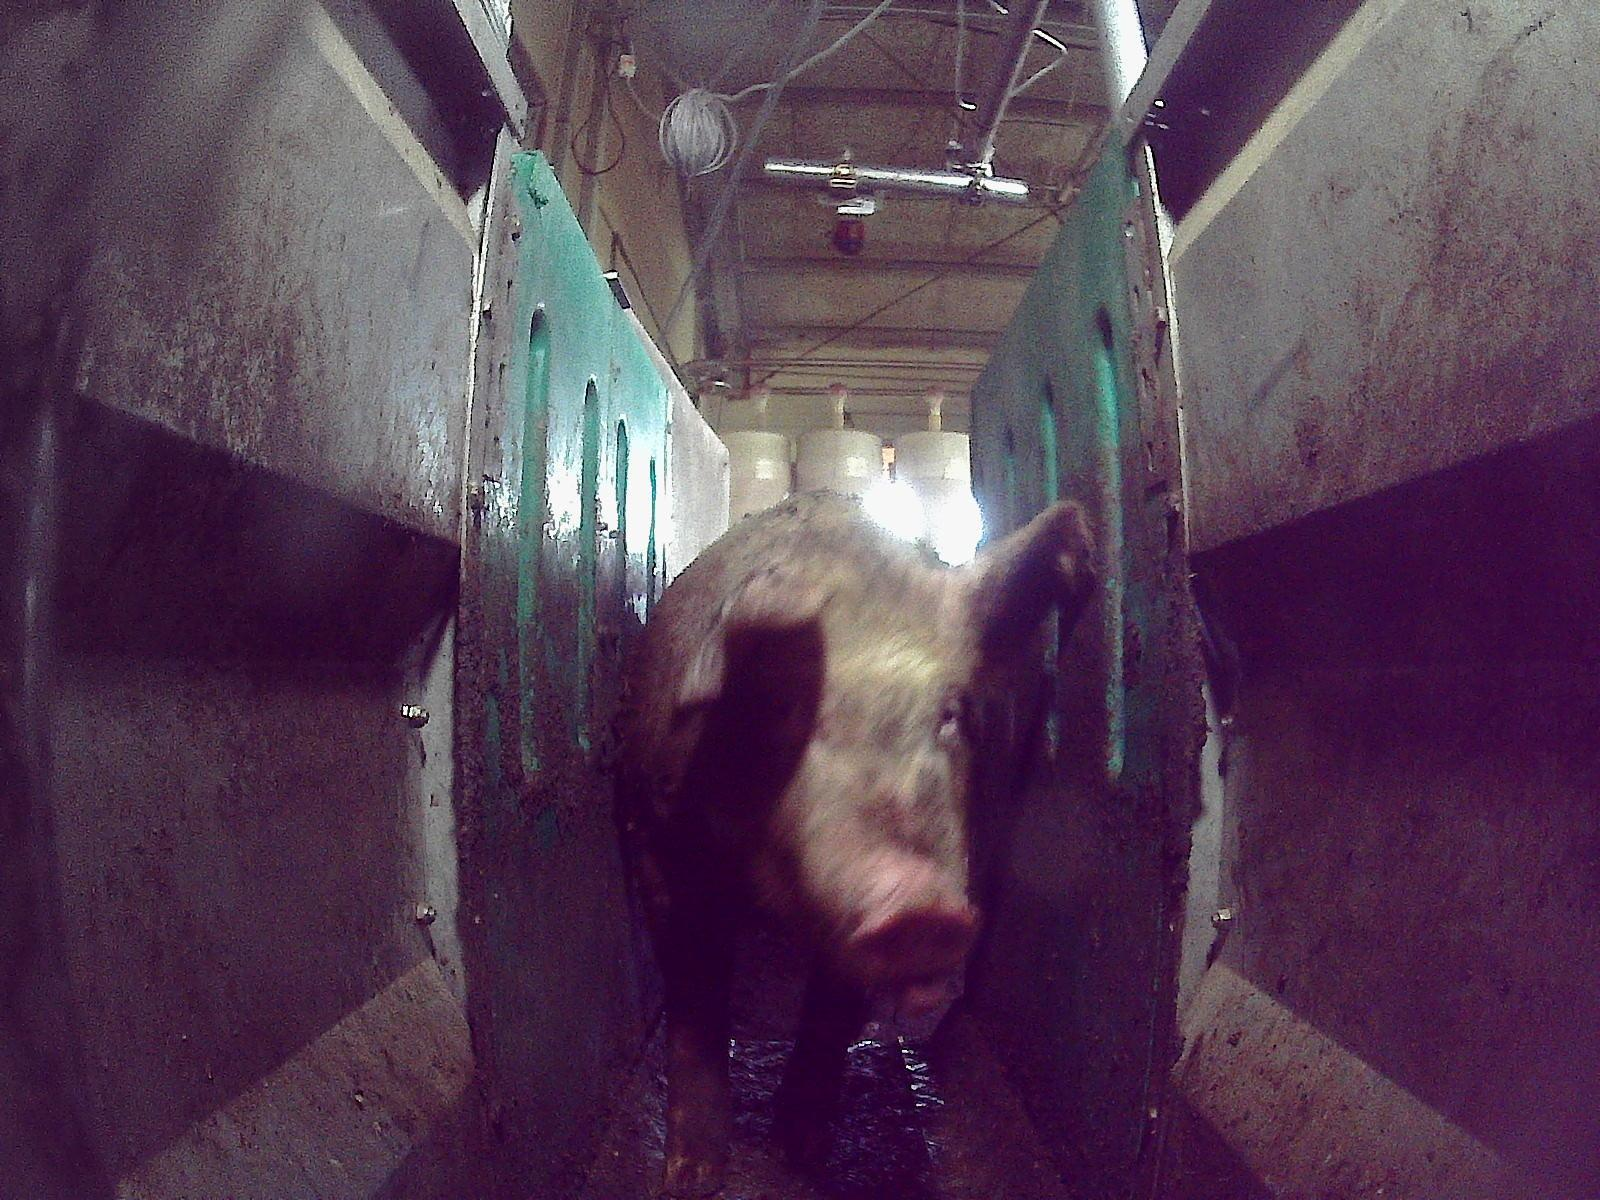Face: (728, 541, 978, 1032)
